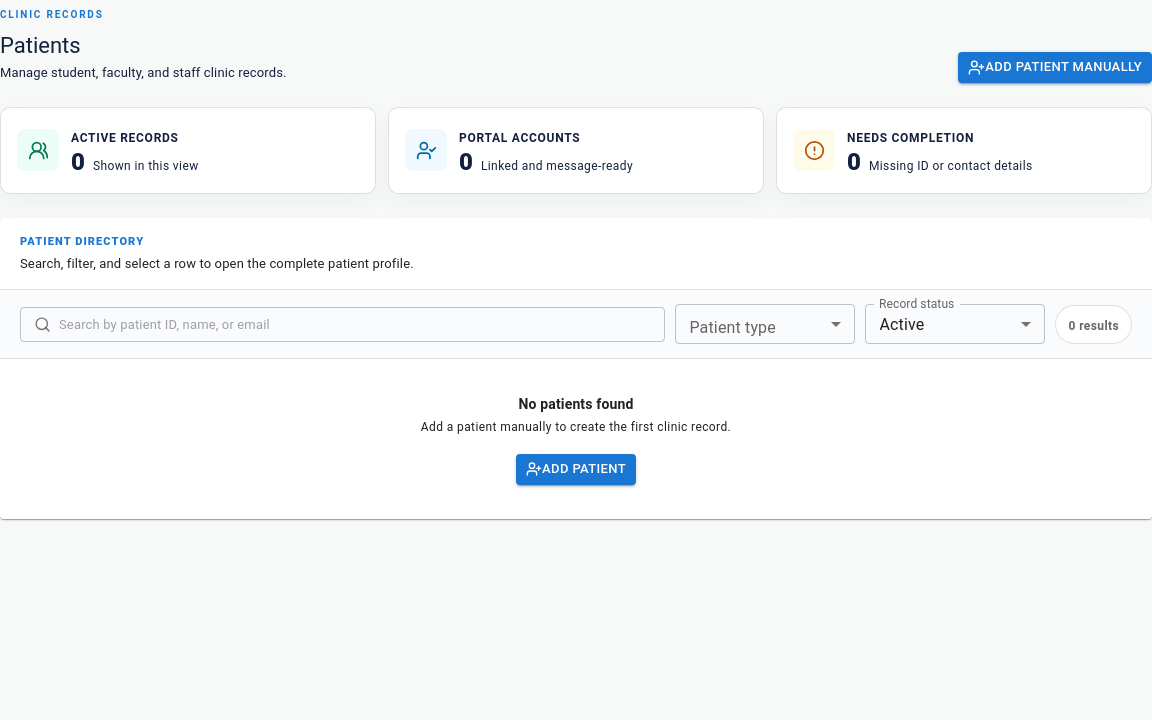
PatientsPage manual registration › shows a read-only Patient ID and displays the assigned number after save
Expected: the text "No patients found" is shown, [518, 394, 634, 414]
Click the button "Add patient manually".
click(1055, 67)  # box [958, 52, 1151, 83]
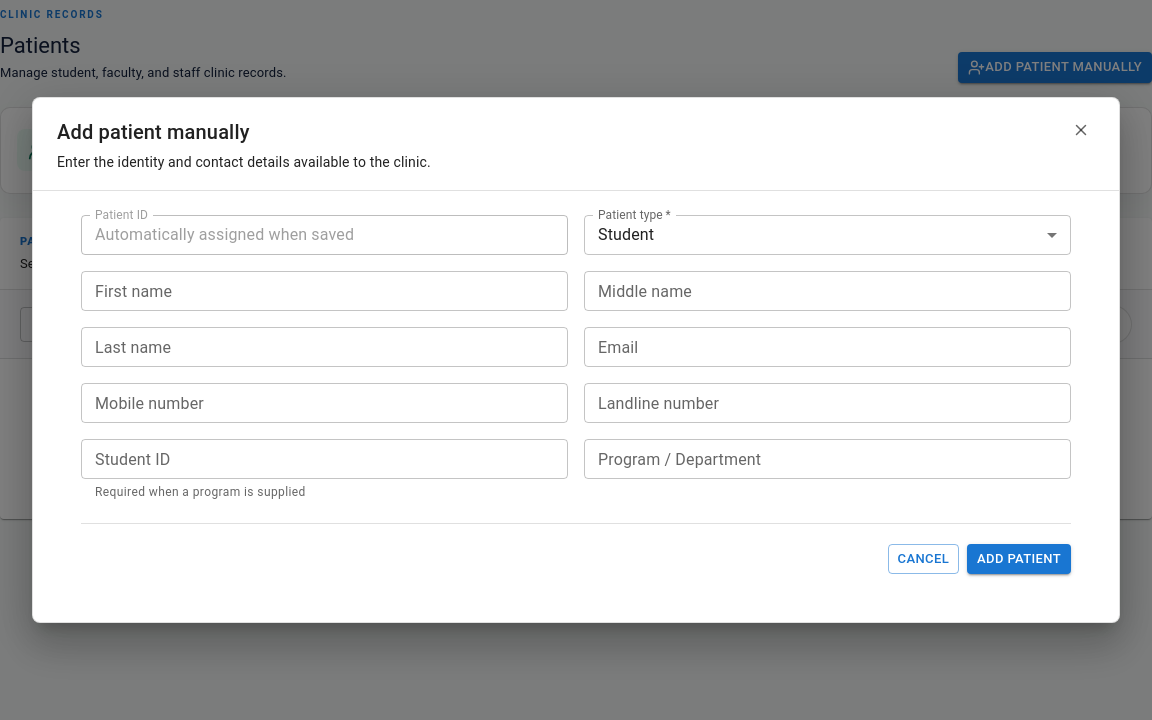
Expected: the field labelled "Patient ID" is disabled, [81, 215, 568, 255]
Expected: the field labelled "Patient ID" holds "Automatically assigned when saved", [81, 215, 568, 255]
Expected: the field labelled "Student ID" is shown, [81, 439, 568, 479]
Type "Pat" into the field labelled "First name".
click(324, 291); type("Pat")  # box [81, 271, 568, 311]
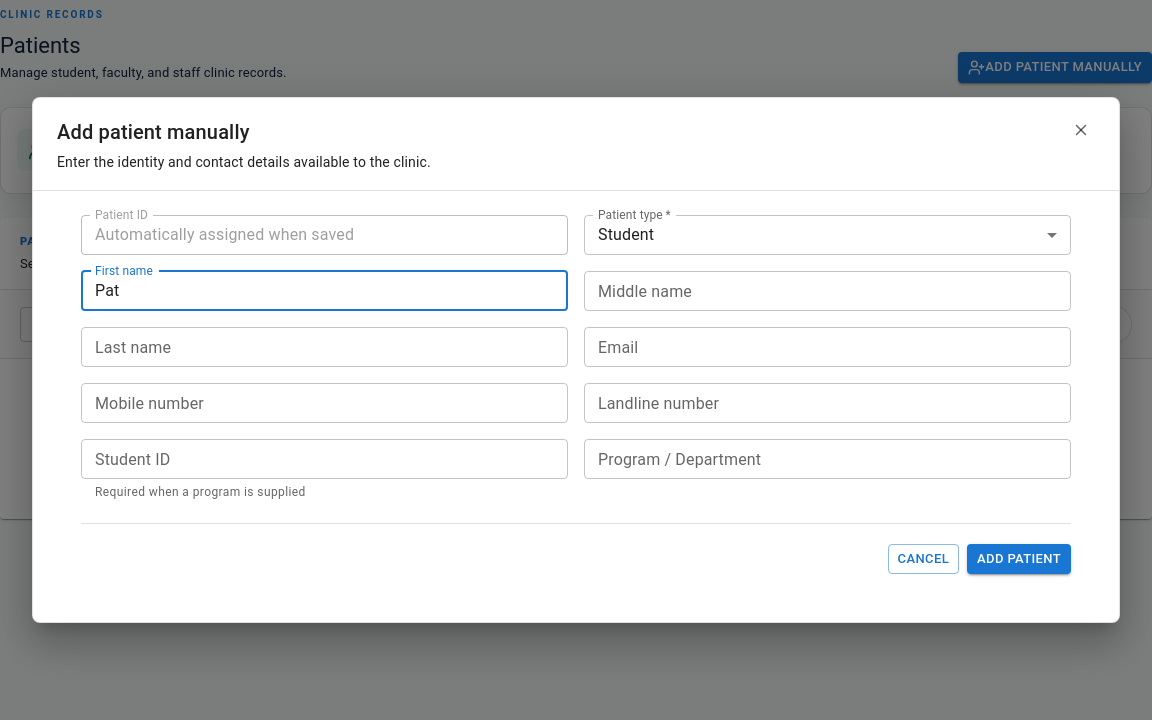
Type "Example" into the field labelled "Last name".
click(324, 347); type("Example")  # box [81, 327, 568, 367]
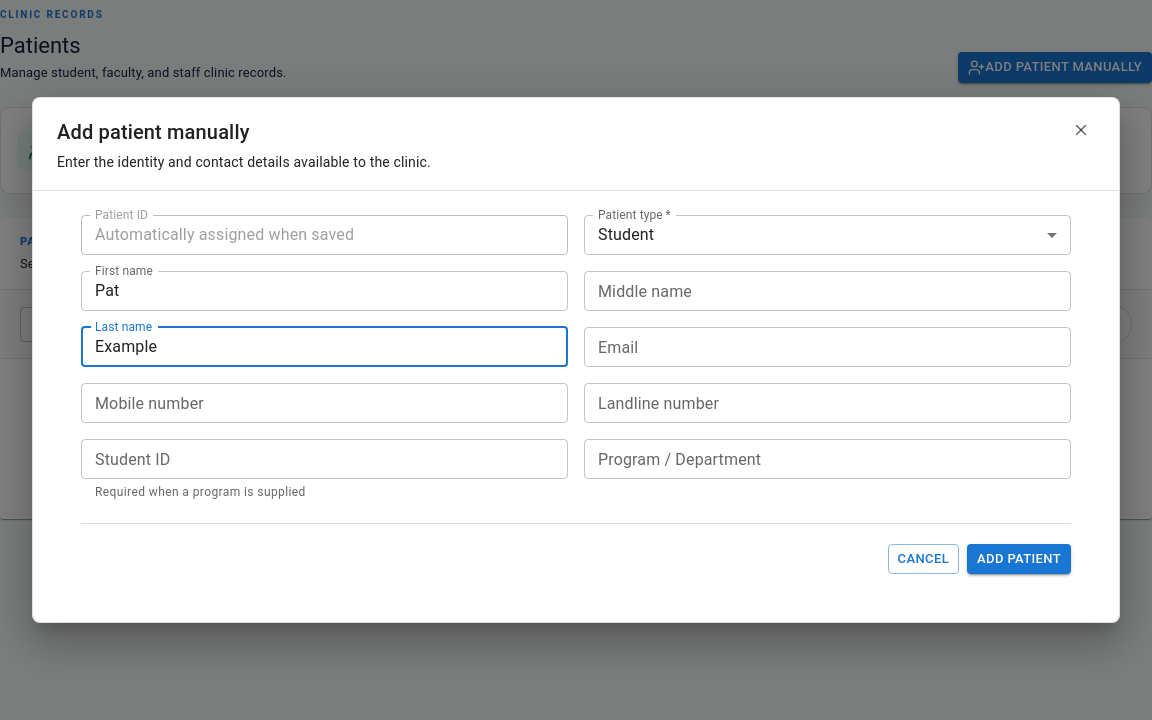
Click the button "Add patient".
click(1019, 559)  # box [967, 544, 1071, 574]
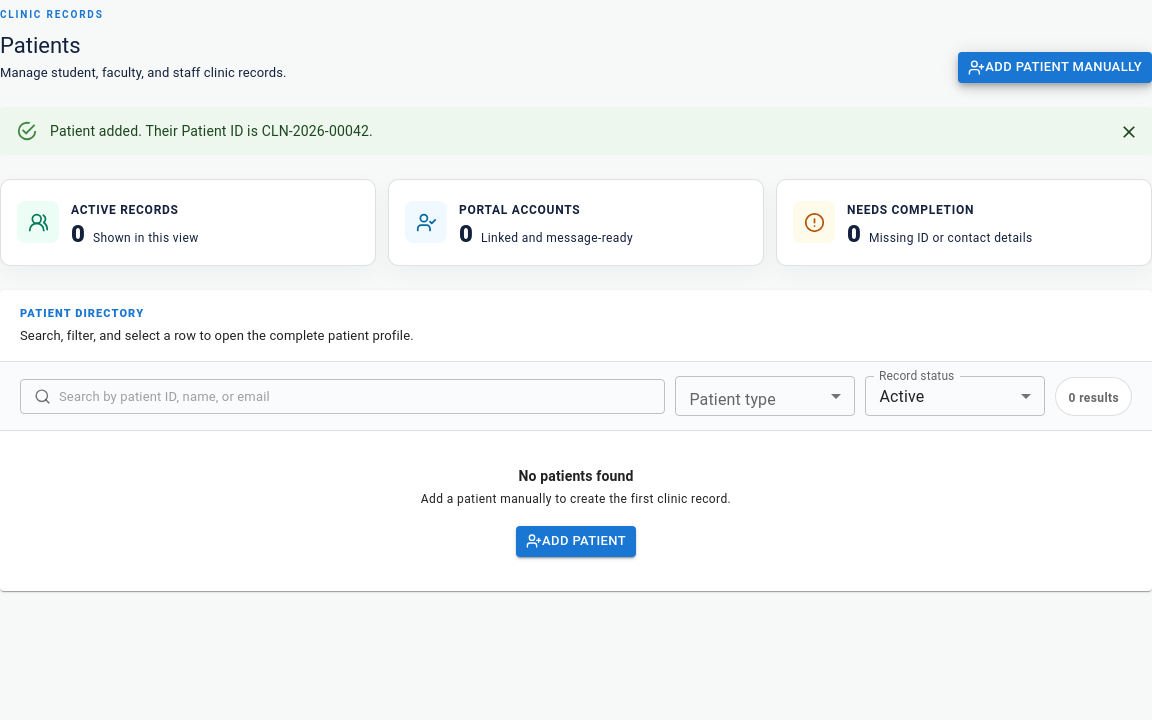
Expected: the message shows "CLN-2026-00042", [262, 122, 369, 138]
